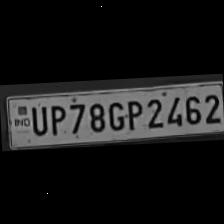2: (200, 90, 222, 124), (142, 94, 162, 130)
4: (162, 92, 182, 128)
6: (181, 92, 201, 126)
7: (64, 100, 86, 134)
8: (84, 99, 107, 134)
G: (105, 98, 125, 132)
P: (45, 100, 65, 136), (122, 97, 142, 131)
U: (27, 102, 48, 136)
